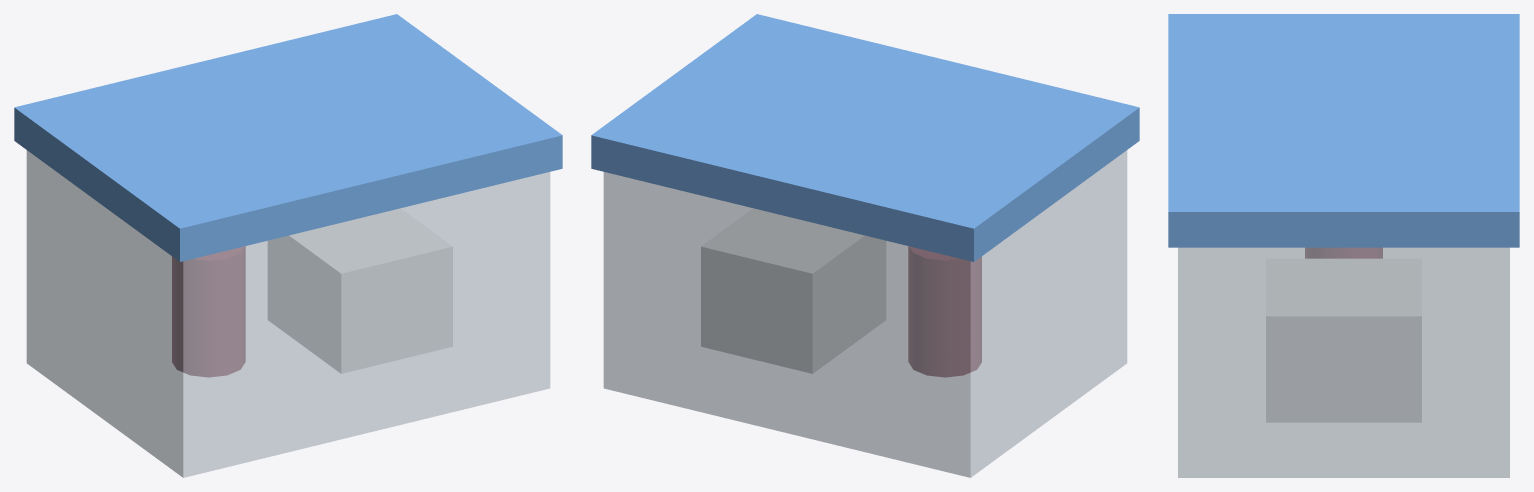
Rendered from ch5_prop_supply_box.glb.
3 views of the same model, side by side, from view 1: azimuth 30°, elevation 25°; view 2: azimuth 150°, elevation 25°; view 3: azimuth 270°, elevation 25° (orthographic). The views are drawn at different scales.
Visible parts, largest first — view 1: ch5_prop_supply_box; view 2: ch5_prop_supply_box; view 3: ch5_prop_supply_box.
Boxes of the visible parts, x1,y1,x2,y2 form: ch5_prop_supply_box: (14,14,562,477); ch5_prop_supply_box: (591,14,1139,477); ch5_prop_supply_box: (1168,14,1519,477).
Size of the model in its own units: 0.48 by 0.305 by 0.36.
